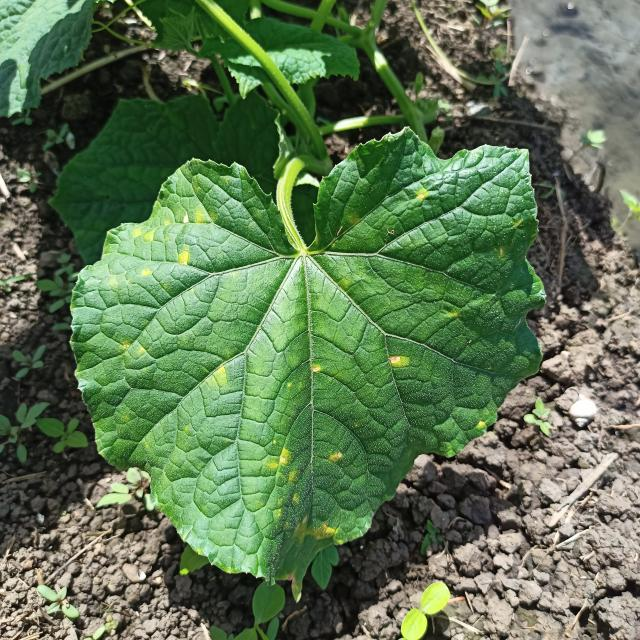disease_cucumber: (268, 445, 344, 545), (132, 210, 212, 280), (387, 352, 412, 368), (212, 363, 229, 384), (307, 362, 326, 376), (415, 190, 428, 202)
